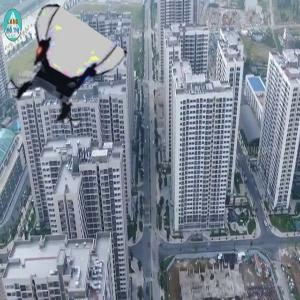drone: (9, 19, 115, 125)
